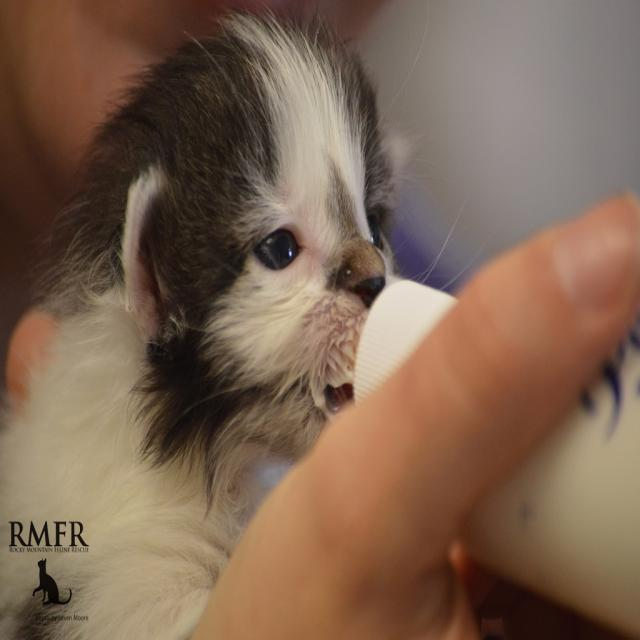Cat: (0, 3, 499, 638)
